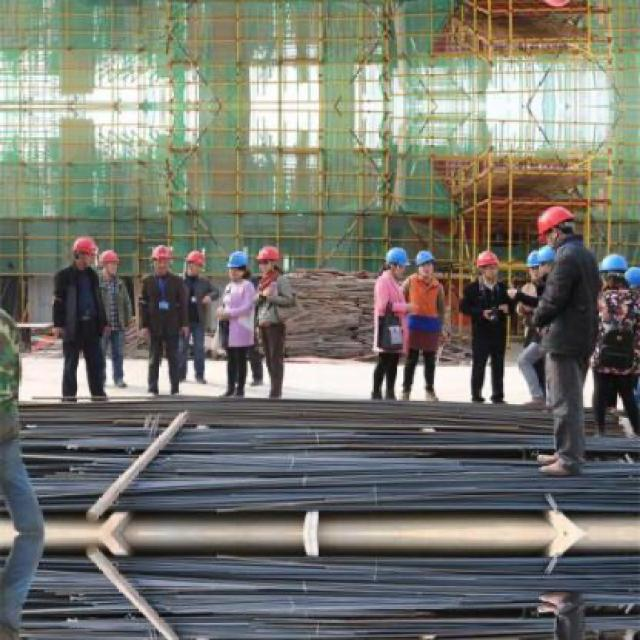con casco: (516, 176, 601, 273), (332, 230, 422, 301), (382, 244, 459, 301), (81, 222, 139, 276), (145, 243, 210, 290), (150, 222, 201, 270), (44, 222, 93, 270), (241, 246, 284, 294), (230, 245, 258, 282)
